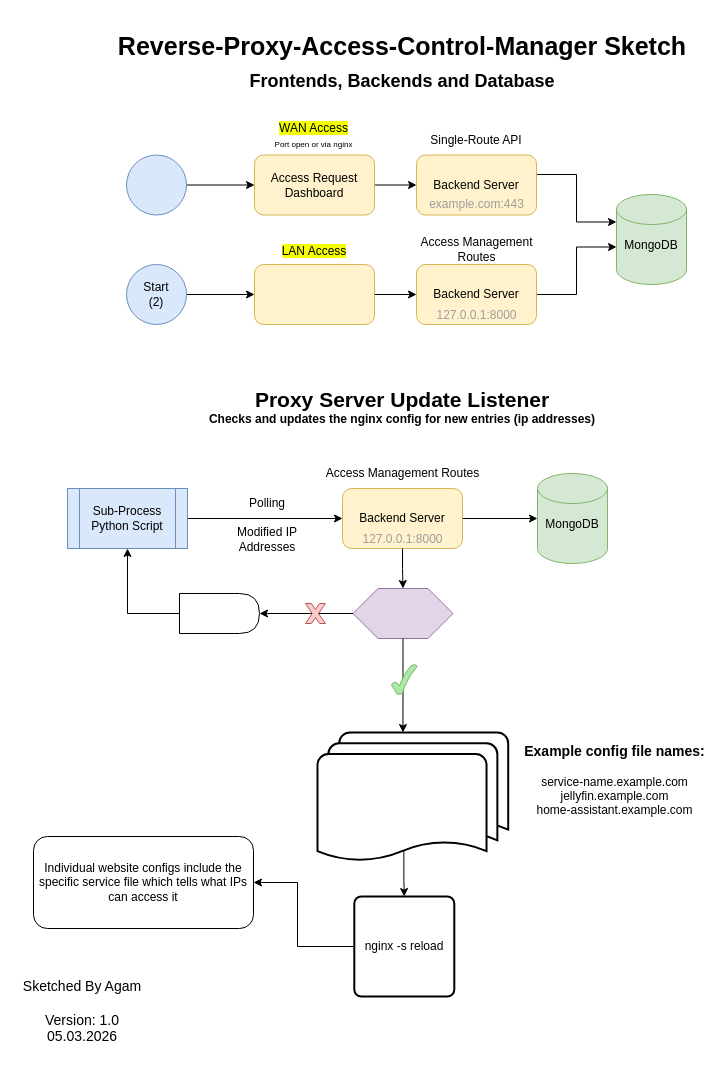
Some shapes in this 727 by 1074 pixel diagram are drawn without their labels. Here are the shapes that lost their labels. From the top down, the centre of each, then its label:
At point 156,184: "Start (1)".
At point 314,294: "Frontend Management Dashboard".
At point 219,613: "60s Configurable".
At point 402,613: "Check for changes".
At point 412,797: "/etc/nginx/allowed-ips/*".
